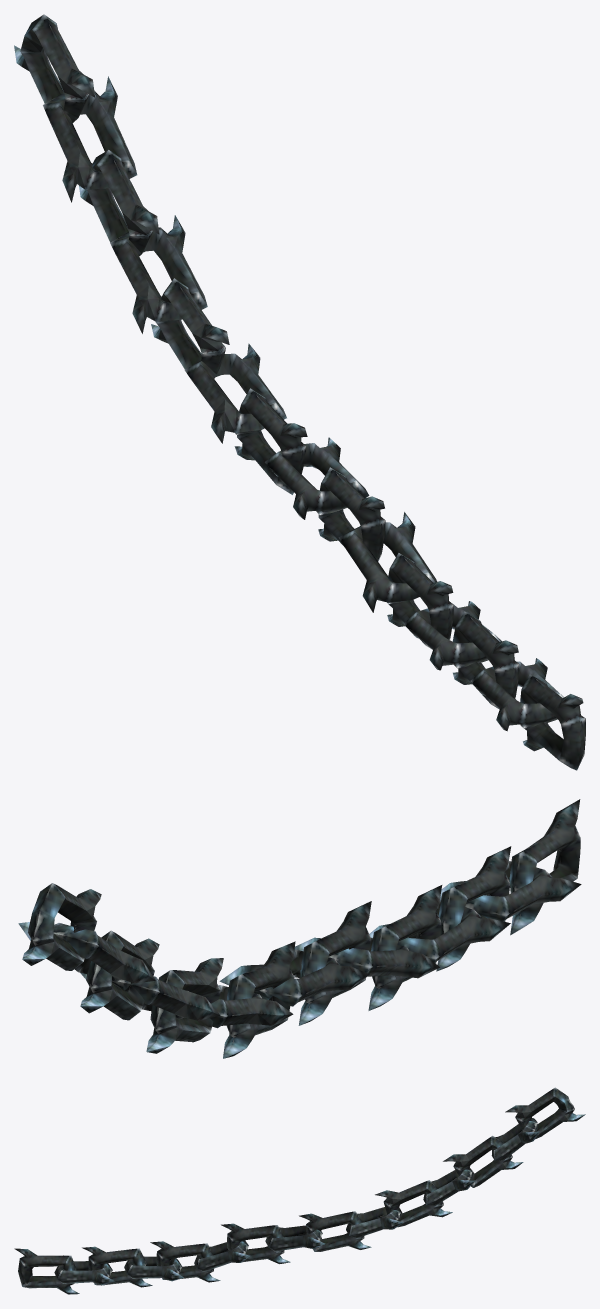
The model's file is S_Build_Forest007_1.FBX.
3 views of the same model, one above another, from view 1: azimuth 30°, elevation 25°; view 2: azimuth 150°, elevation 25°; view 3: azimuth 270°, elevation 25° (orthographic). The views are drawn at different scales.
Visible parts, largest first — view 1: S_Build_Forest007_1; view 2: S_Build_Forest007_1; view 3: S_Build_Forest007_1.
Boxes of the visible parts, bbox=[...] form: S_Build_Forest007_1: bbox=[14, 14, 585, 770]; S_Build_Forest007_1: bbox=[18, 799, 581, 1058]; S_Build_Forest007_1: bbox=[14, 1087, 585, 1294].
Size of the model in its own units: 175 by 656 by 1676.
